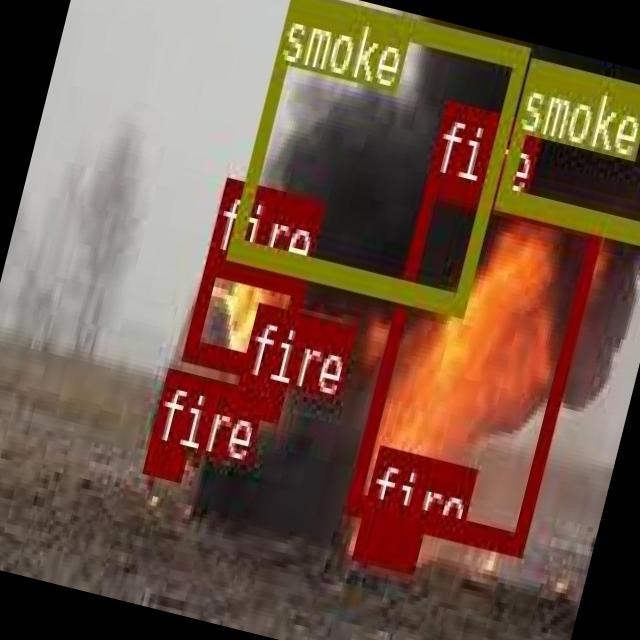fire: (344, 170, 604, 550), (182, 246, 308, 379), (352, 518, 420, 568), (230, 371, 282, 417), (142, 438, 186, 478)
smoke: (226, 0, 527, 312), (494, 55, 640, 242)
